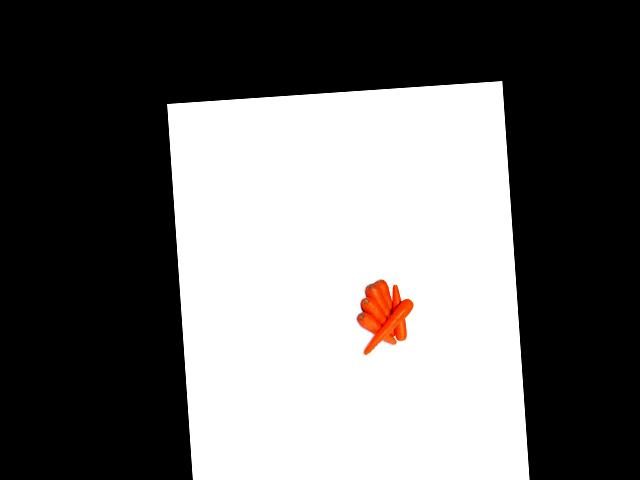carrot: (352, 312, 397, 352)
